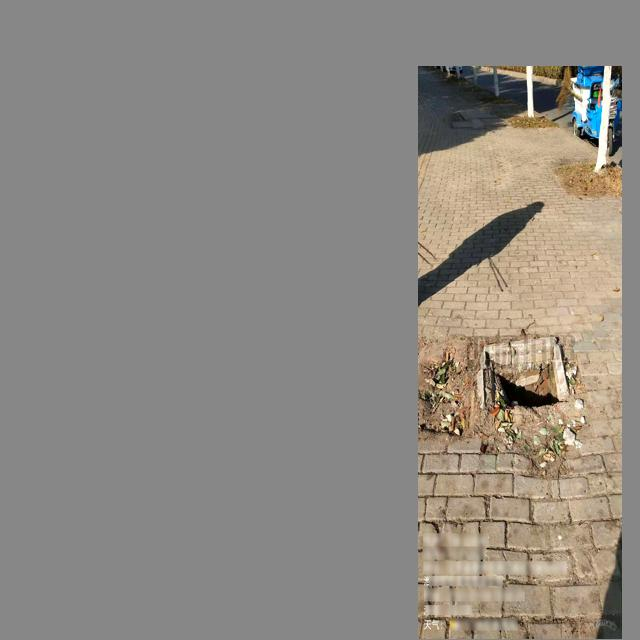lose: (478, 336, 575, 410)
